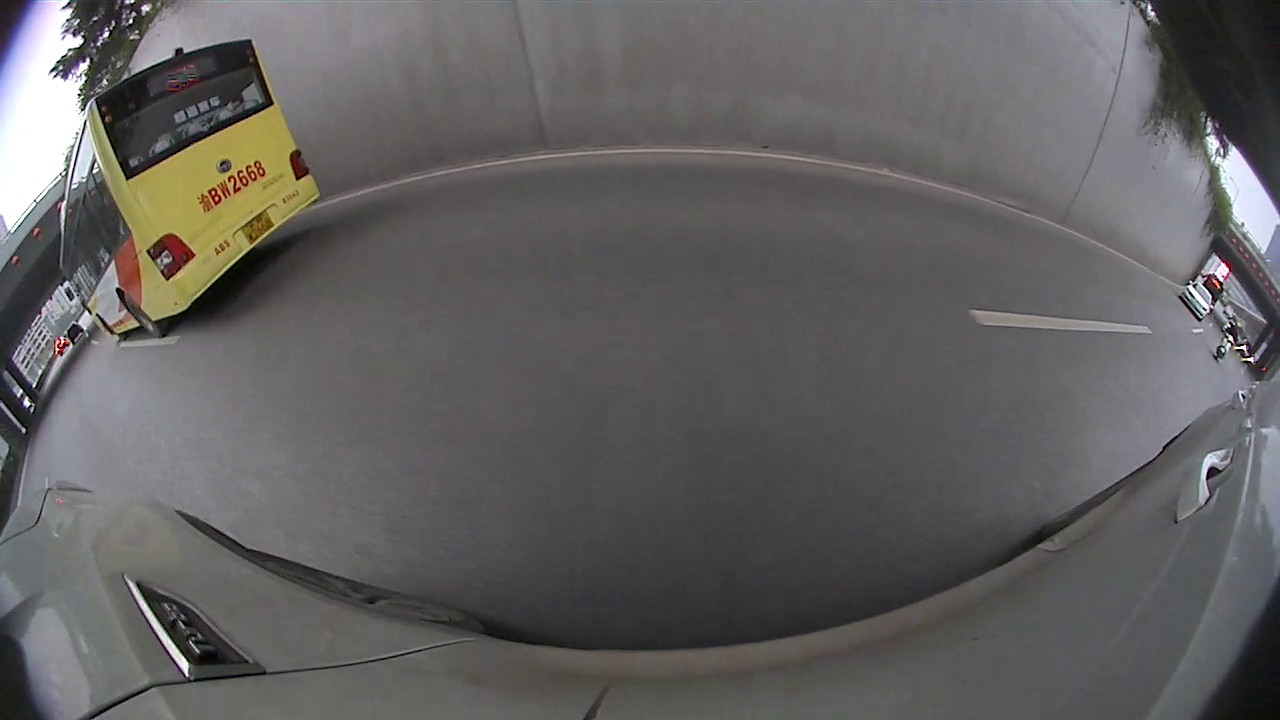bus: (795, 116, 967, 217)
car: (177, 110, 485, 319), (1109, 257, 1279, 472), (747, 152, 884, 221), (105, 264, 186, 325), (493, 145, 573, 202)
front: (1145, 346, 1248, 472), (461, 196, 484, 236)
rear: (320, 235, 375, 305), (786, 185, 808, 215)
truck: (545, 0, 802, 220)
